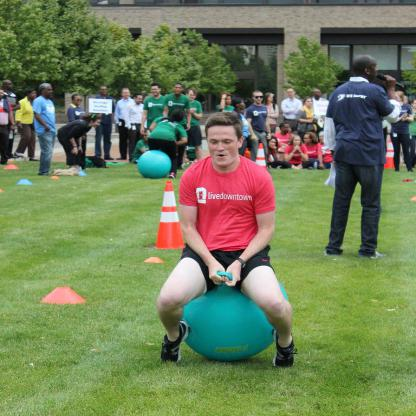Ball: (179, 282, 289, 362), (136, 151, 172, 176)
